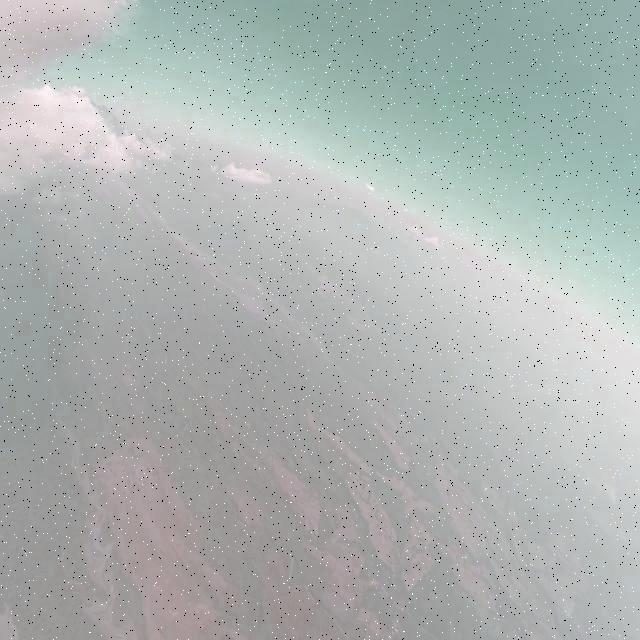Plume: (5, 0, 149, 182)
